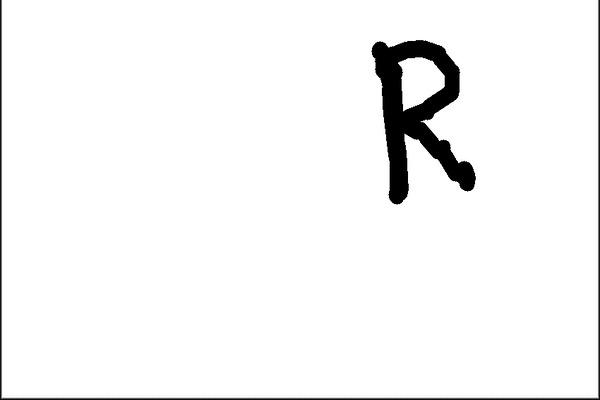R: (358, 32, 498, 204)
